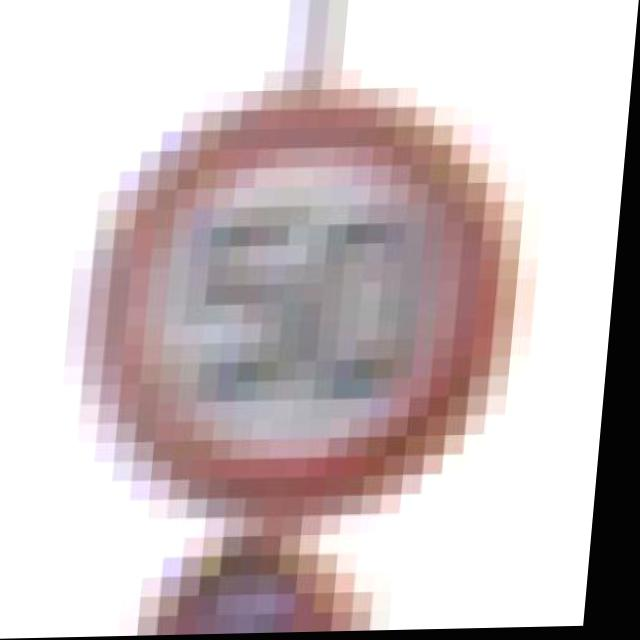Speed limit 50: (73, 77, 544, 522)
